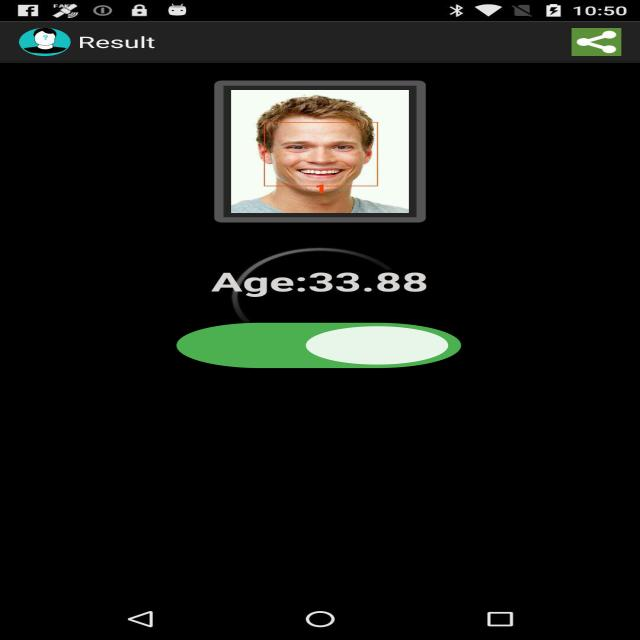social proof: (164, 305, 474, 389)
